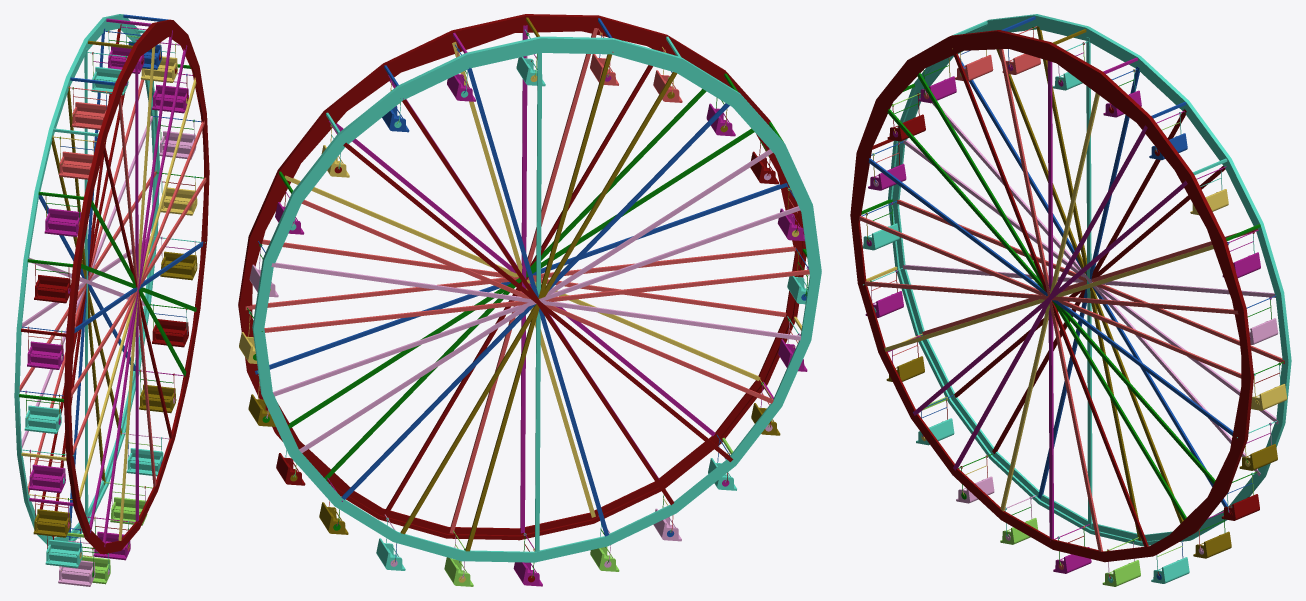
The model's file is wheel.obj.
3 views of the same model, side by side, from view 1: azimuth 30°, elevation 25°; view 2: azimuth 150°, elevation 25°; view 3: azimuth 270°, elevation 25° (orthographic). The views are drawn at different scales.
Parts seen in each view (by area): view 1: Group_169, Group_16_001, Group_174, Group_175, Group_181, Group_180, Group_176, Group_179, Group_177, Group_178, Group_192, Group_188 (+38 smaller); view 2: Group_16_001, Group_169, Group_183, Group_184, Group_182, Group_189, Group_190, Group_185, Group_191, Group_188, Group_192, Group_187 (+13 smaller); view 3: Group_169, Group_16_001, Group_178, Group_179, Group_173, Group_180, Group_172, Group_171, Group_181, Group_170, Group_174, Group_190 (+20 smaller).
Part boxes in pixels (x1,y1,x2,y2): Group_169: [64, 19, 209, 554]; Group_16_001: [14, 14, 159, 545]; Group_174: [103, 30, 172, 546]; Group_175: [89, 45, 187, 533]; Group_181: [118, 46, 155, 540]; Group_180: [135, 61, 138, 521]; Group_176: [79, 77, 196, 499]; Group_179: [118, 96, 156, 486]; Group_177: [73, 120, 204, 454]; Group_178: [103, 145, 172, 438]; Group_192: [84, 48, 88, 518]; Group_188: [27, 79, 144, 493]; Group_16_001: [252, 36, 821, 562]; Group_169: [238, 14, 806, 540]; Group_183: [273, 206, 800, 396]; Group_184: [299, 149, 772, 452]; Group_182: [264, 269, 809, 332]; Group_189: [271, 262, 800, 340]; Group_190: [400, 72, 677, 534]; Group_185: [341, 103, 729, 499]; Group_191: [465, 54, 611, 551]; Group_188: [301, 200, 773, 403]; Group_192: [535, 53, 541, 552]; Group_187: [343, 142, 733, 461]; Group_169: [850, 30, 1253, 562]; Group_16_001: [888, 14, 1291, 546]; Group_178: [953, 53, 1148, 546]; Group_179: [999, 49, 1102, 551]; Group_173: [917, 73, 1186, 520]; Group_180: [1047, 61, 1053, 539]; Group_172: [887, 109, 1215, 484]; Group_171: [868, 158, 1233, 435]; Group_181: [1000, 93, 1099, 511]; Group_170: [859, 216, 1241, 378]; Group_174: [953, 125, 1147, 470]; Group_190: [996, 49, 1183, 523].
Size of the model in its own units: 16490 by 21979 by 16490.
10 materials, 10 textured.
